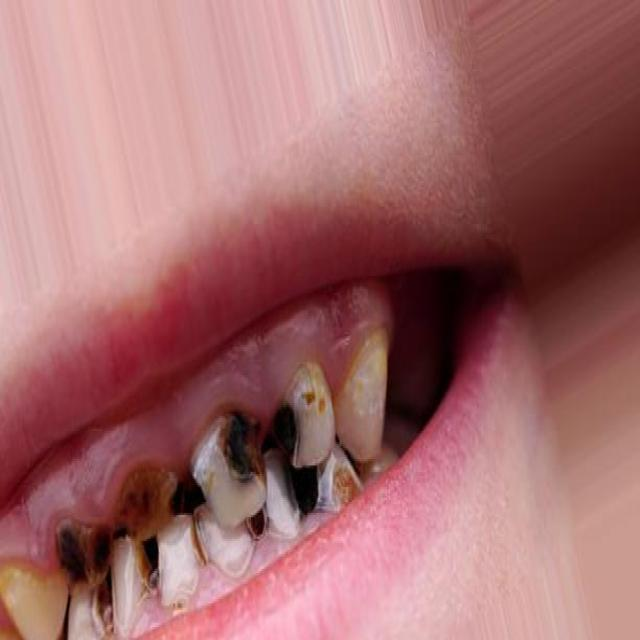caries: (194, 396, 267, 511), (118, 446, 182, 549), (273, 352, 332, 462), (54, 500, 112, 592), (317, 437, 364, 522), (242, 502, 284, 564), (85, 571, 121, 640), (133, 538, 168, 604)
